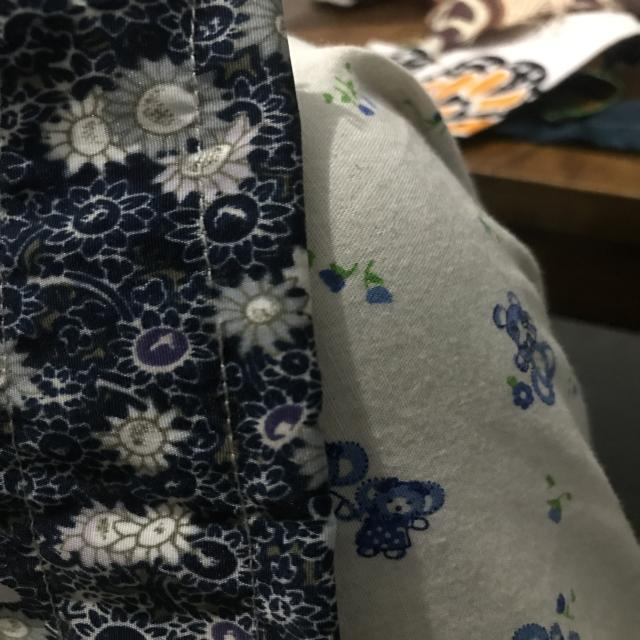broken: (183, 259, 237, 346)
